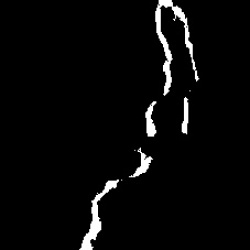crack: (145, 2, 199, 140), (78, 178, 120, 248), (130, 149, 153, 178), (182, 98, 189, 136)
